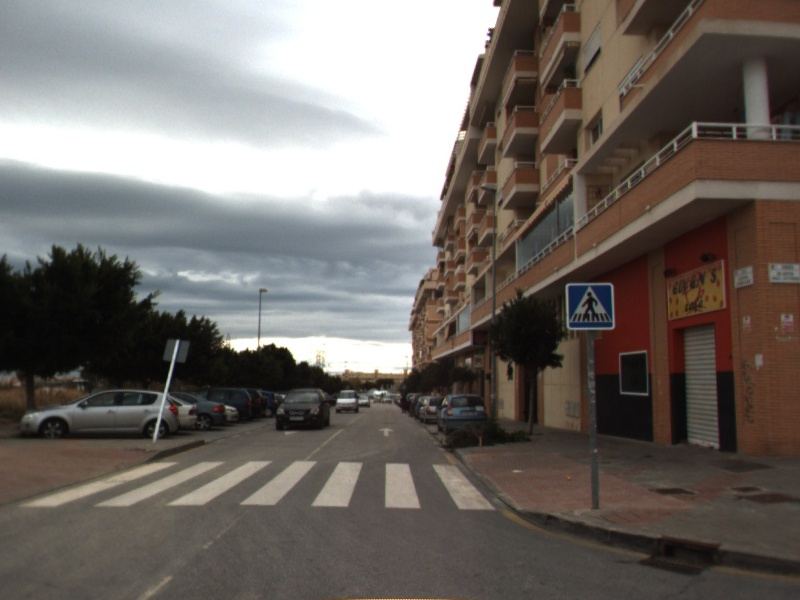STRAIGHT: (376, 425, 396, 438)
